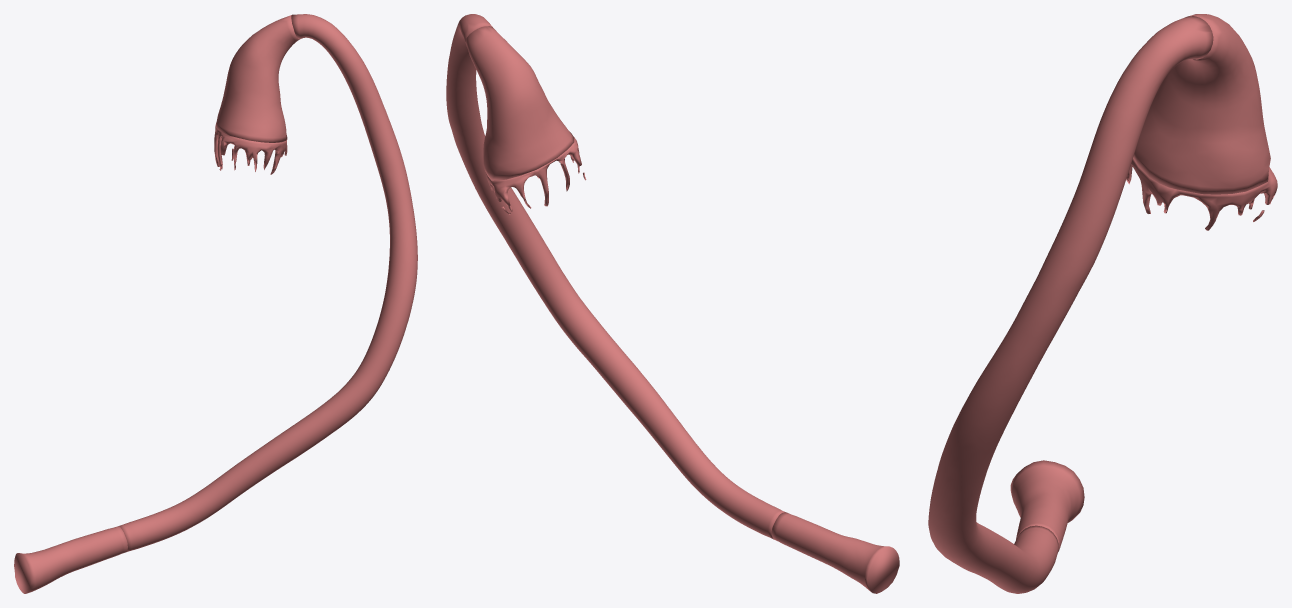
File: vh_f_fallopian_tube_l-80.glb
3 renders of one model, left to right at view 1: azimuth 30°, elevation 25°; view 2: azimuth 150°, elevation 25°; view 3: azimuth 270°, elevation 25°, orthographic. The views are drawn at different scales.
Visible parts, largest first — view 1: VH_F_ampulla_of_uterine_tube_L, VH_F_uterine_tube_infundibulum_L, VH_F_isthmus_of_fallopian_tube_L, VH_F_fibria_of_uterine_tube_L; view 2: VH_F_ampulla_of_uterine_tube_L, VH_F_uterine_tube_infundibulum_L, VH_F_isthmus_of_fallopian_tube_L, VH_F_fibria_of_uterine_tube_L; view 3: VH_F_ampulla_of_uterine_tube_L, VH_F_uterine_tube_infundibulum_L, VH_F_isthmus_of_fallopian_tube_L, VH_F_fibria_of_uterine_tube_L.
Boxes of the visible parts, left/top/right/bottom form: VH_F_ampulla_of_uterine_tube_L: left=118, top=14, right=417, bottom=551; VH_F_uterine_tube_infundibulum_L: left=215, top=15, right=299, bottom=142; VH_F_isthmus_of_fallopian_tube_L: left=14, top=526, right=127, bottom=593; VH_F_fibria_of_uterine_tube_L: left=214, top=127, right=287, bottom=174; VH_F_ampulla_of_uterine_tube_L: left=446, top=14, right=785, bottom=539; VH_F_uterine_tube_infundibulum_L: left=465, top=26, right=574, bottom=180; VH_F_isthmus_of_fallopian_tube_L: left=771, top=512, right=899, bottom=593; VH_F_fibria_of_uterine_tube_L: left=486, top=137, right=586, bottom=214; VH_F_ampulla_of_uterine_tube_L: left=928, top=16, right=1213, bottom=593; VH_F_uterine_tube_infundibulum_L: left=1133, top=14, right=1270, bottom=194; VH_F_isthmus_of_fallopian_tube_L: left=1010, top=460, right=1084, bottom=551; VH_F_fibria_of_uterine_tube_L: left=1126, top=158, right=1277, bottom=230.
Size of the model in its own units: 0.0386 by 0.0445 by 0.0185.
